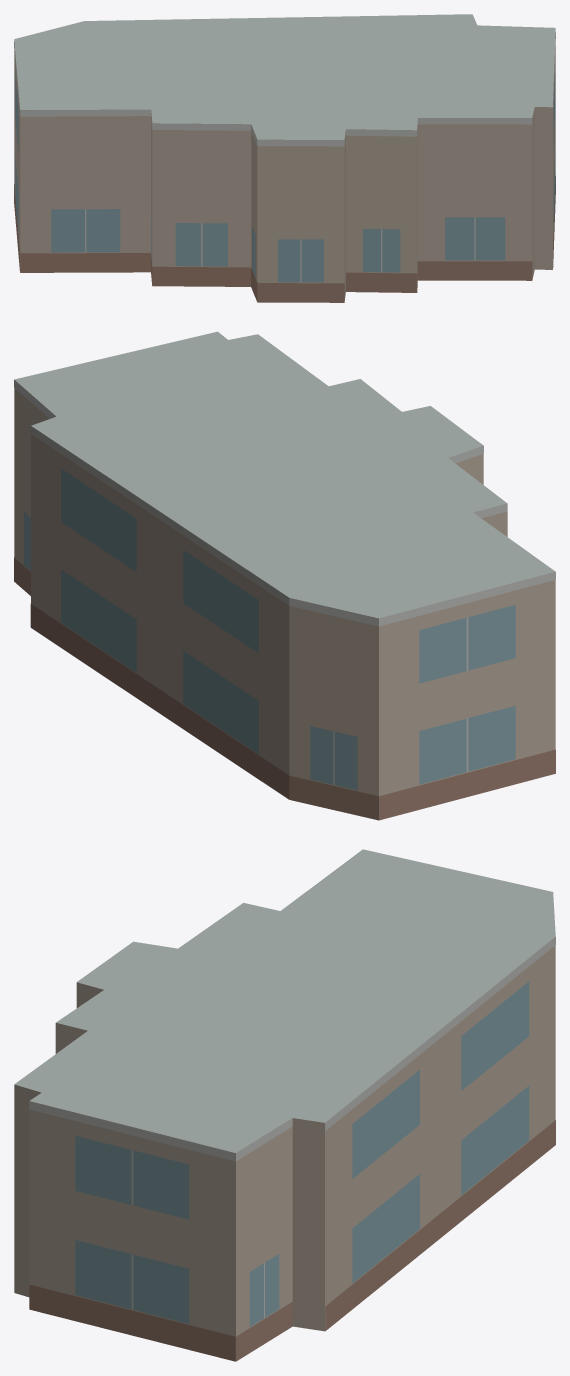
Rendered from survey-upis-32584456.glb.
The picture shows the model from 3 angles, top to bottom: view 1: azimuth 30°, elevation 25°; view 2: azimuth 150°, elevation 25°; view 3: azimuth 270°, elevation 25°; orthographic projection. The views are drawn at different scales.
Visible parts, largest first — view 1: survey-upis-32584456.tmp; view 2: survey-upis-32584456.tmp; view 3: survey-upis-32584456.tmp.
Boxes of the visible parts, x1,y1,x2,y2 form: survey-upis-32584456.tmp: [14, 14, 555, 302]; survey-upis-32584456.tmp: [14, 331, 555, 820]; survey-upis-32584456.tmp: [14, 849, 555, 1361].
Size of the model in its own units: 19.08 by 6.1 by 14.37.
